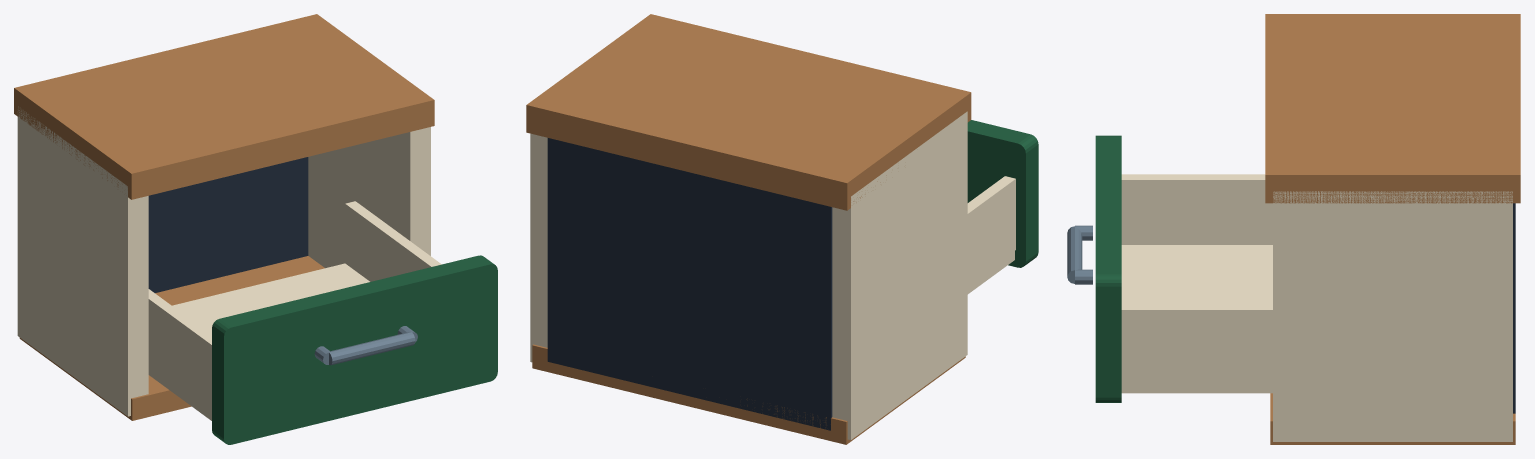
The model's file is drawer.glb.
The picture shows the model from 3 angles, left to right: view 1: azimuth 30°, elevation 25°; view 2: azimuth 150°, elevation 25°; view 3: azimuth 270°, elevation 25°; orthographic projection. The views are drawn at different scales.
Visible parts, largest first — view 1: top, drawer front, side -0.68, back, side 0.68, tray, tray side -0.59, tray side 0.59, bottom, drawer grip1; view 2: back, top, side -0.68, drawer front, bottom, tray side -0.59, side 0.68; view 3: side 0.68, top, tray side 0.59, tray, tray side -0.59, drawer front, bottom, drawer grip1, back.
Boxes of the visible parts, x1,y1,x2,y2 form: top: (14, 14, 434, 199); drawer front: (212, 255, 497, 444); side -0.68: (17, 106, 148, 416); back: (148, 157, 308, 292); side 0.68: (308, 127, 430, 268); tray: (148, 263, 369, 420); tray side -0.59: (148, 289, 211, 411); tray side 0.59: (345, 201, 441, 281); bottom: (19, 256, 324, 420); drawer grip1: (329, 332, 415, 365); back: (547, 138, 832, 430); top: (526, 14, 971, 210); side -0.68: (832, 111, 967, 439); drawer front: (967, 120, 1038, 267); bottom: (532, 344, 965, 444); tray side -0.59: (967, 176, 1015, 284); side 0.68: (530, 133, 547, 362); side 0.68: (1273, 191, 1512, 441); top: (1265, 14, 1520, 203); tray side 0.59: (1121, 304, 1272, 383); tray: (1121, 245, 1272, 393); tray side -0.59: (1121, 174, 1272, 244); drawer front: (1095, 135, 1121, 402); bottom: (1270, 393, 1515, 444); drawer grip1: (1067, 226, 1082, 283); back: (1513, 203, 1515, 413).
Size of the model in its own units: 1.46 by 1.15 by 1.74.
